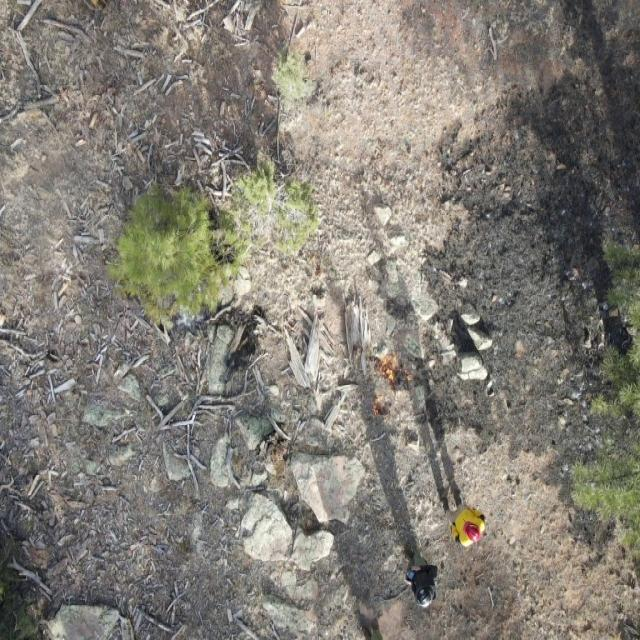fire: (373, 351, 414, 388), (368, 396, 392, 420)
